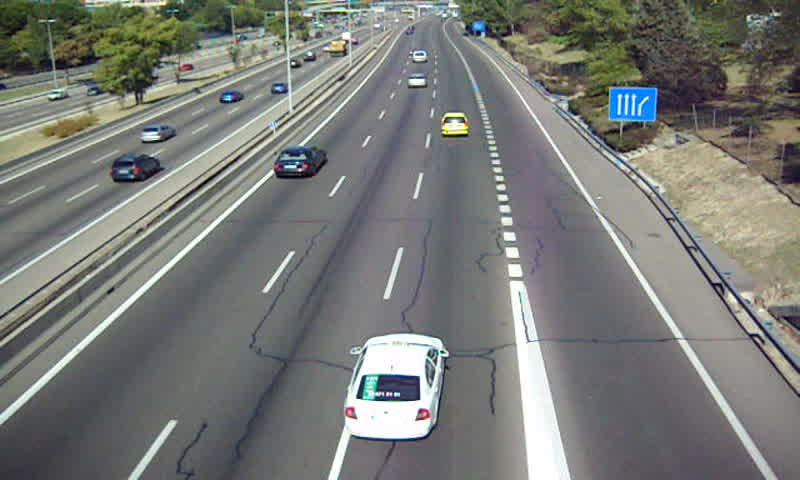car: (345, 334, 449, 440), (271, 148, 324, 178), (441, 112, 470, 138), (408, 72, 427, 89)
